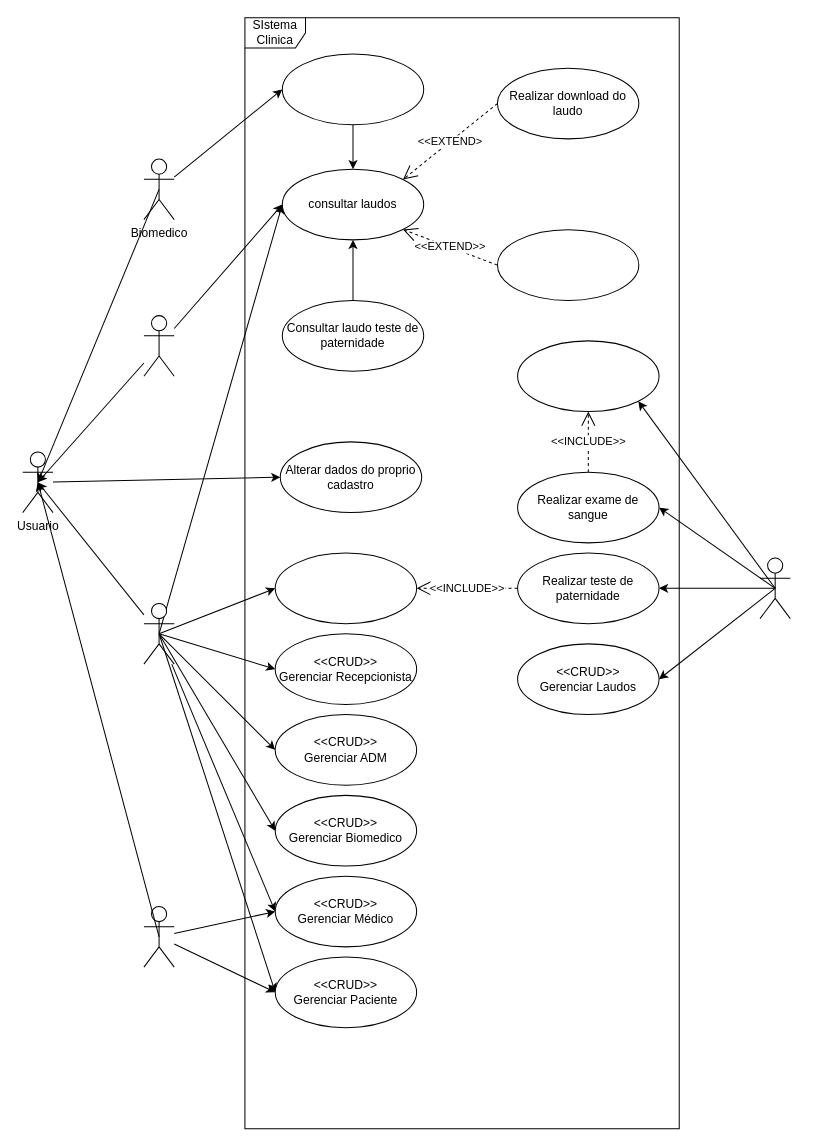
The diagram is 814 pixels wide and 1146 high, and some of its shapes have lost their labels. The shapes that lost their labels are listed below. From the top down, each one's centre as x and y in pixels, then its label:
point (352, 89): Consultar laudo exame de sangue
point (567, 264): compartilhar laudo
point (158, 345): Paciente
point (588, 376): Inserir dados para realização dos exames de sangue
point (345, 588): Inserir dados para realização do teste de paternidade
point (774, 588): Sistema
point (158, 633): Coordenadora (ADM - maior nivel de acesso)
point (158, 936): Recepcionista
